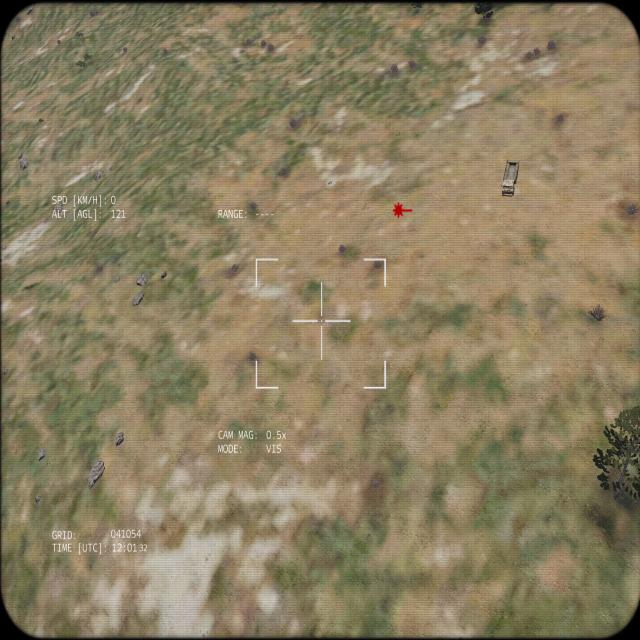truck: (499, 159, 518, 198)
